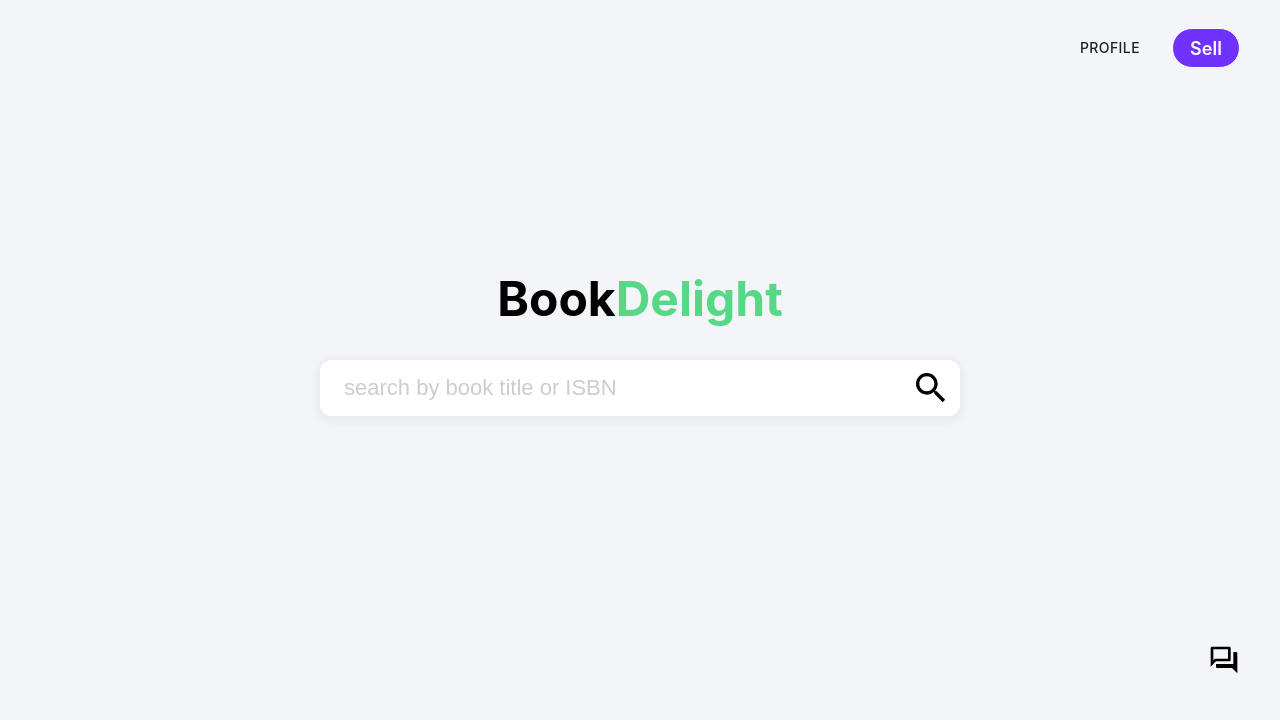
it: navigating to search page
Click the icon with test id "search-button" at (931, 388), box [902,360,960,416]
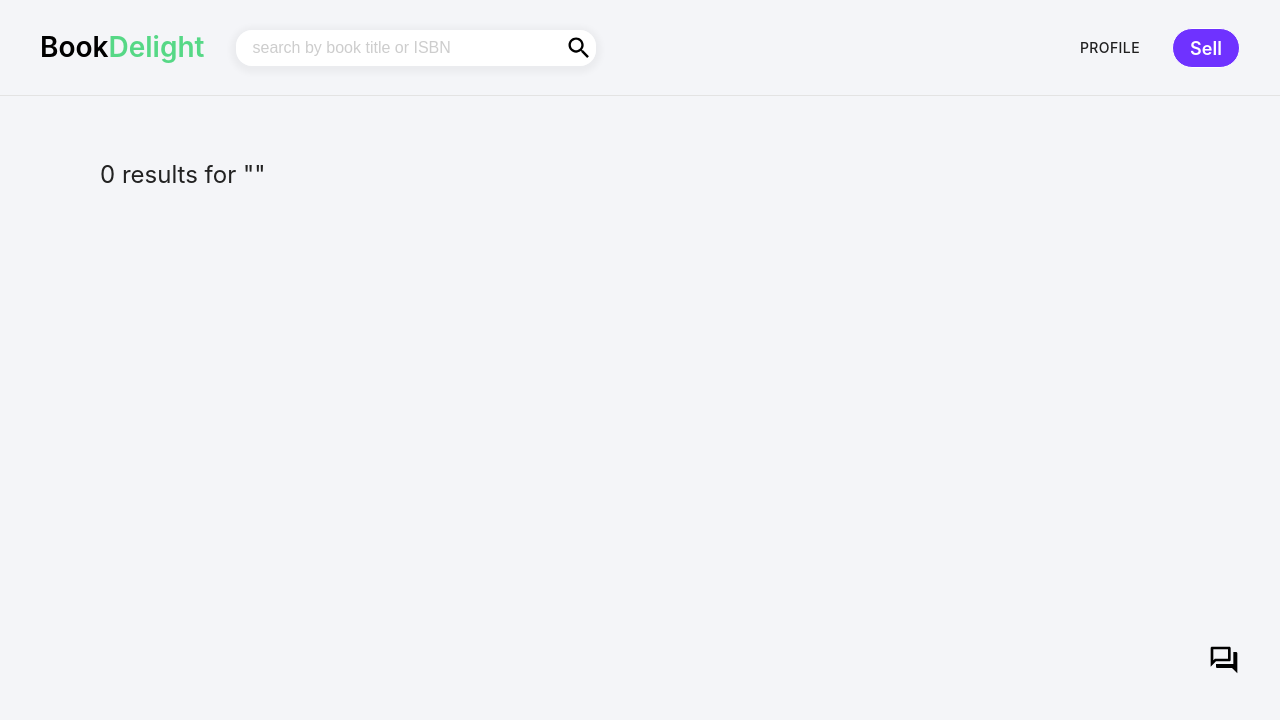
Result: the heading "0 results for \"\"" is shown at [100,160,265,189]
